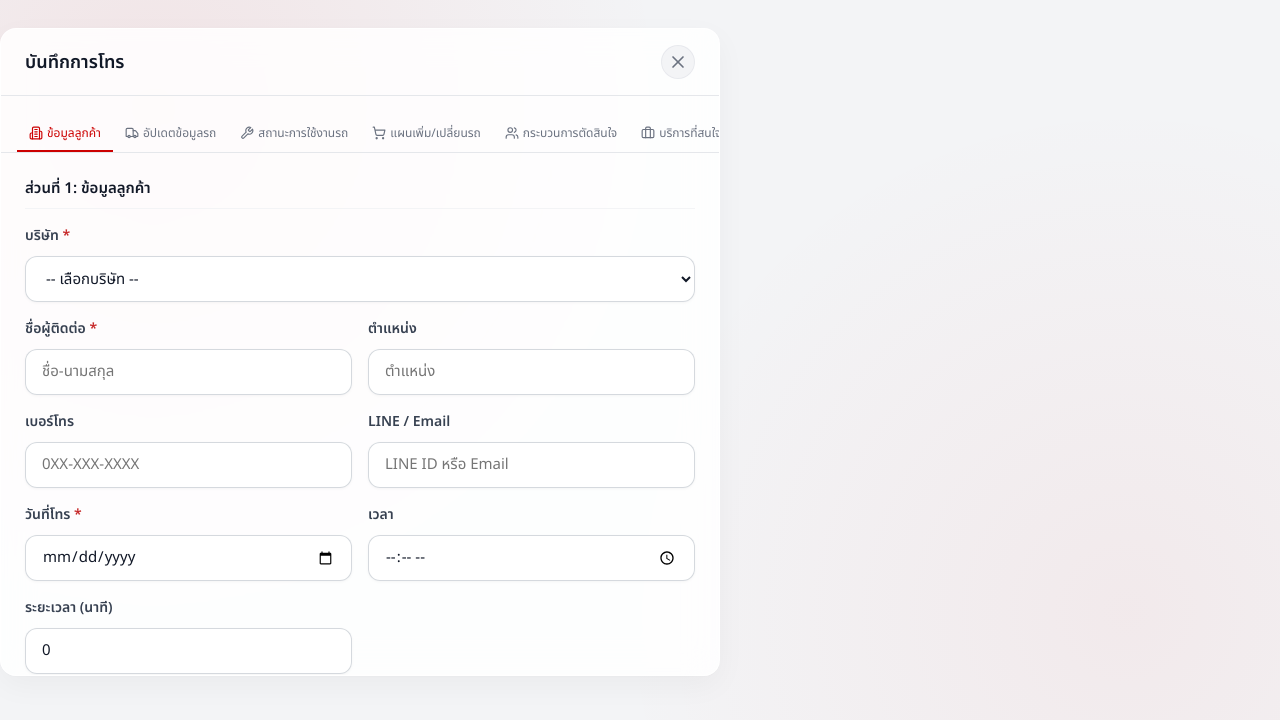
Test: CallForm › renders usage type checkboxes
What coordinates should you click on to do the following:
click the button "อัปเดตข้อมูลรถ"
I would click on:
 (171, 134)
Its box is [113,116,228,152].
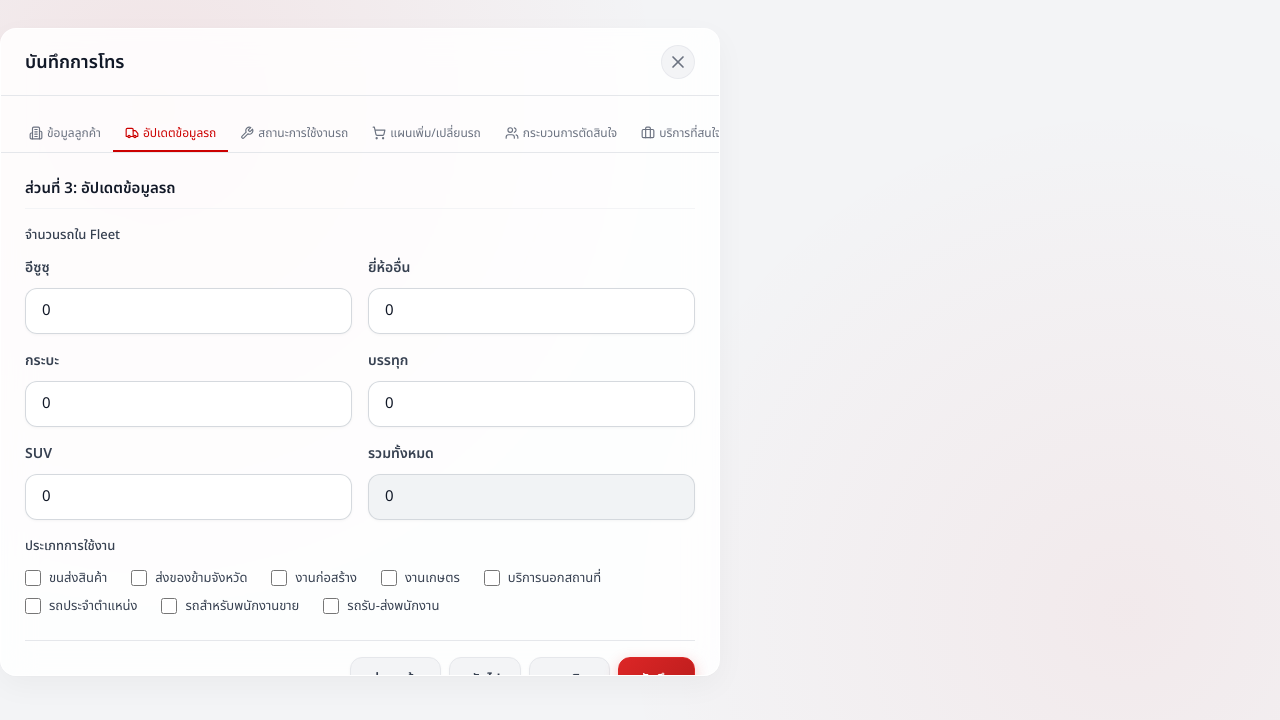
Expected: the text "ขนส่งสินค้า" is shown, [49,568,107,588]
Expected: the text "งานก่อสร้าง" is shown, [296,568,357,588]
